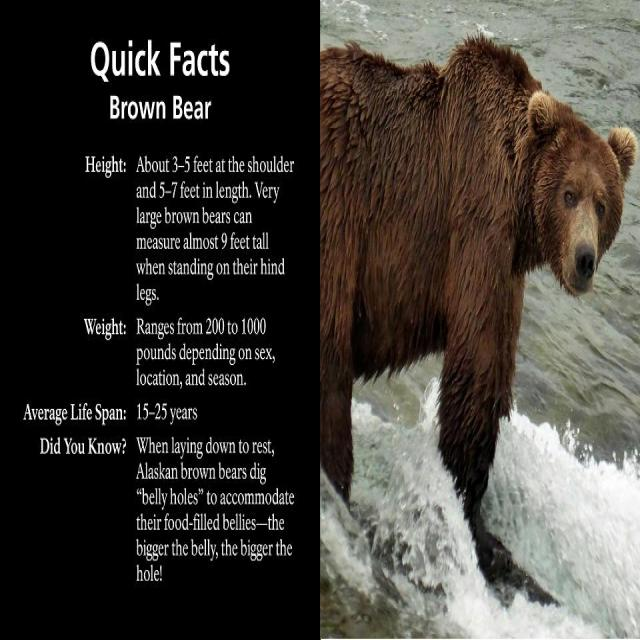Bear: (320, 38, 636, 600)
